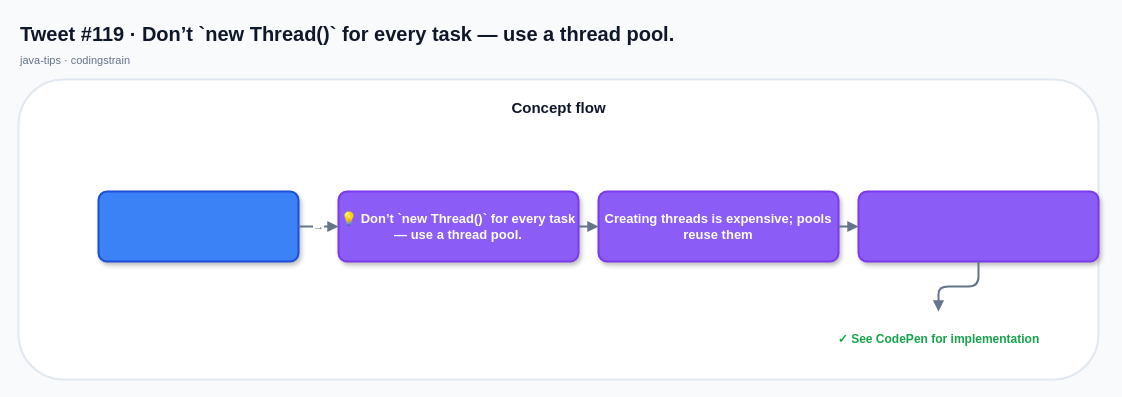
This 1122x397 diagram has some shape labels left out. Each missing label, with the centre of its shape:
"`Executors` caps how many run at once" belongs at (979,227).
"Problem / context" belongs at (199,227).
